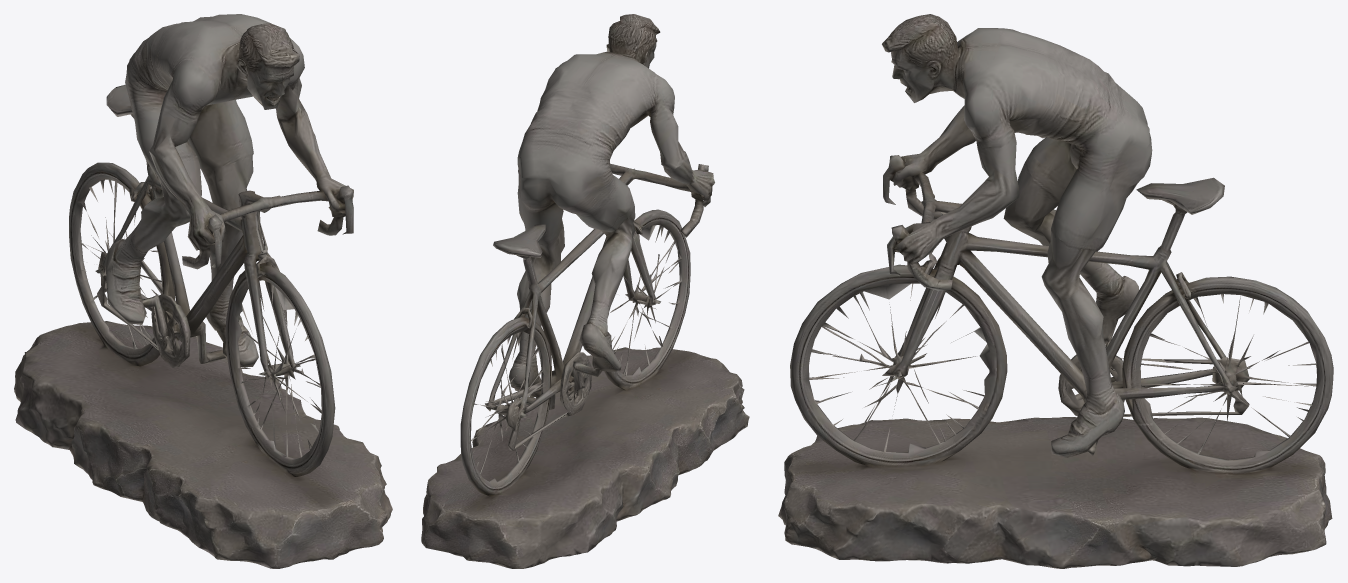
Rendered from geant.glb.
3 renders of one model, left to right at view 1: azimuth 30°, elevation 25°; view 2: azimuth 150°, elevation 25°; view 3: azimuth 270°, elevation 25°, orthographic. The views are drawn at different scales.
Parts seen in each view (by area): view 1: tripo_node_45f9383b-3bc5-4b14-b264-9b14c5395daa; view 2: tripo_node_45f9383b-3bc5-4b14-b264-9b14c5395daa; view 3: tripo_node_45f9383b-3bc5-4b14-b264-9b14c5395daa.
Part boxes in pixels (bbox=[...]): tripo_node_45f9383b-3bc5-4b14-b264-9b14c5395daa: bbox=[14, 14, 392, 568]; tripo_node_45f9383b-3bc5-4b14-b264-9b14c5395daa: bbox=[421, 14, 749, 568]; tripo_node_45f9383b-3bc5-4b14-b264-9b14c5395daa: bbox=[778, 14, 1333, 568].
Bounding box in the file's own units: 0.4505 × 1 × 0.998.
1 material, 1 textured.
